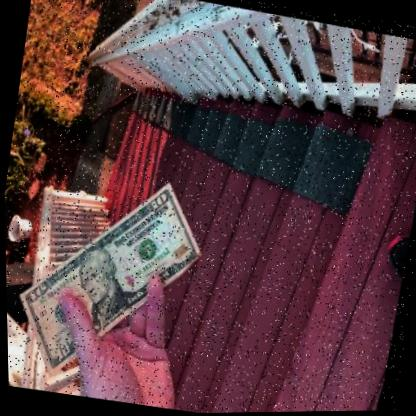ten-front: (21, 180, 204, 376)
